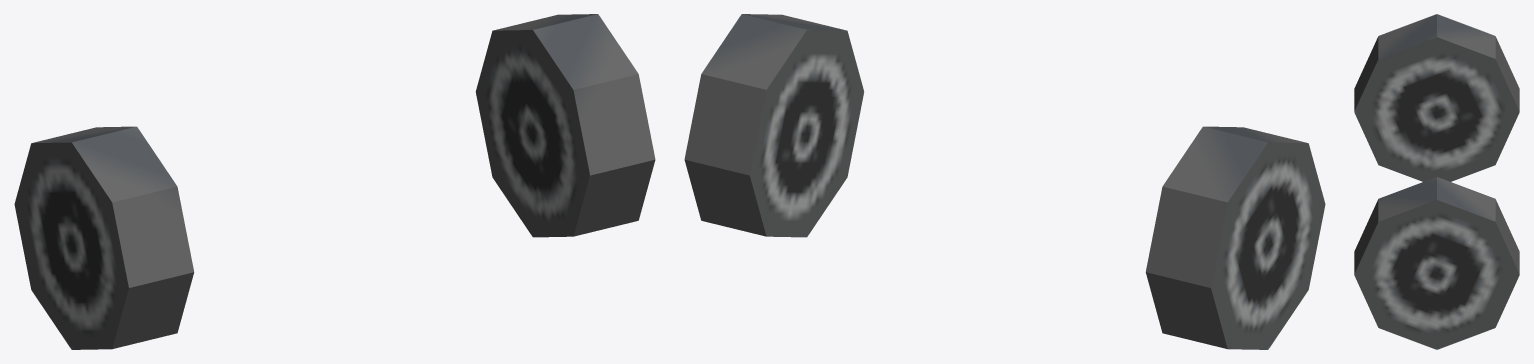
The model's file is citroen_cx_wheels_r.obj.
3 renders of one model, left to right at view 1: azimuth 30°, elevation 25°; view 2: azimuth 150°, elevation 25°; view 3: azimuth 270°, elevation 25°, orthographic. The views are drawn at different scales.
Visible parts, largest first — view 1: citroen_cx_wheels_r; view 2: citroen_cx_wheels_r; view 3: citroen_cx_wheels_r.
Boxes of the visible parts, x1,y1,x2,y2 form: citroen_cx_wheels_r: (14, 14, 655, 349); citroen_cx_wheels_r: (684, 14, 1325, 349); citroen_cx_wheels_r: (1354, 14, 1519, 349).
Bounding box in the file's own units: 1.78 × 0.6694 × 0.6694.
Materials: 1 (1 with a texture image).
